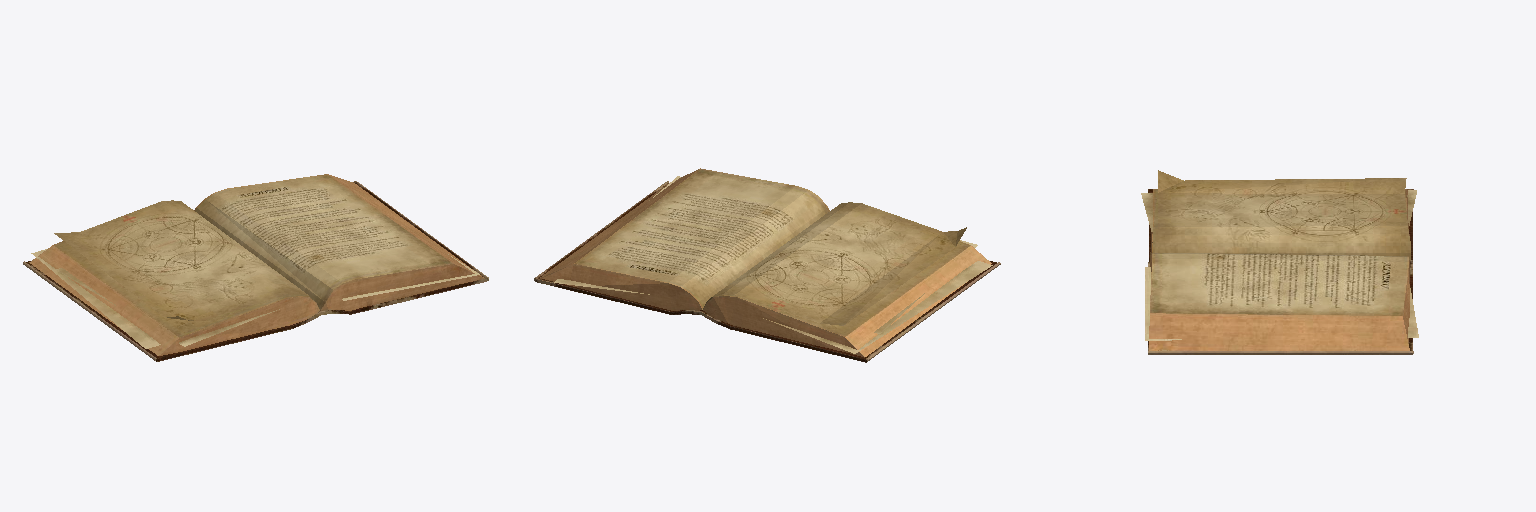
The picture shows the model from 3 angles: view 1: azimuth 30°, elevation 25°; view 2: azimuth 150°, elevation 25°; view 3: azimuth 270°, elevation 25°; orthographic projection.
Visible parts, largest first — view 1: Book_sheets, Loose_sheet_03, Book_frame, Loose_sheet_02, Lloose_sheet_01; view 2: Book_sheets, Loose_sheet_03, Book_frame, Loose_sheet_02; view 3: Book_sheets, Loose_sheet_03, Book_frame, Loose_Sheet_04.
Part boxes in pixels (bbox=[...]): Book_sheets: bbox=[29, 174, 484, 355]; Loose_sheet_03: bbox=[54, 200, 316, 320]; Book_frame: bbox=[23, 181, 488, 361]; Loose_sheet_02: bbox=[31, 249, 160, 348]; Lloose_sheet_01: bbox=[57, 268, 279, 346]; Book_sheets: bbox=[540, 168, 991, 357]; Loose_sheet_03: bbox=[703, 202, 966, 325]; Book_frame: bbox=[534, 181, 1000, 362]; Loose_sheet_02: bbox=[763, 261, 992, 353]; Book_sheets: bbox=[1149, 189, 1409, 350]; Loose_sheet_03: bbox=[1153, 170, 1410, 260]; Book_frame: bbox=[1148, 189, 1413, 354]; Loose_Sheet_04: bbox=[1145, 267, 1418, 340].
Bounding box in the file's own units: 0.4009 × 0.042 × 0.2884.
1 materials, 1 textured.